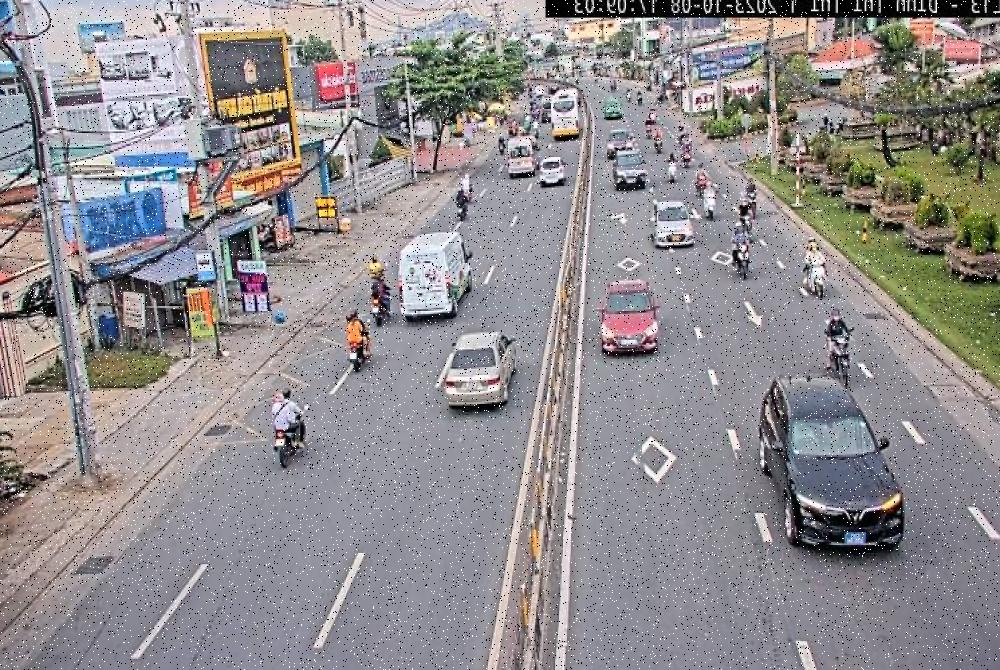car: (752, 374, 906, 557), (398, 226, 472, 320), (441, 333, 515, 409), (600, 274, 660, 351), (650, 200, 696, 246)
motorbike: (830, 329, 854, 380)
